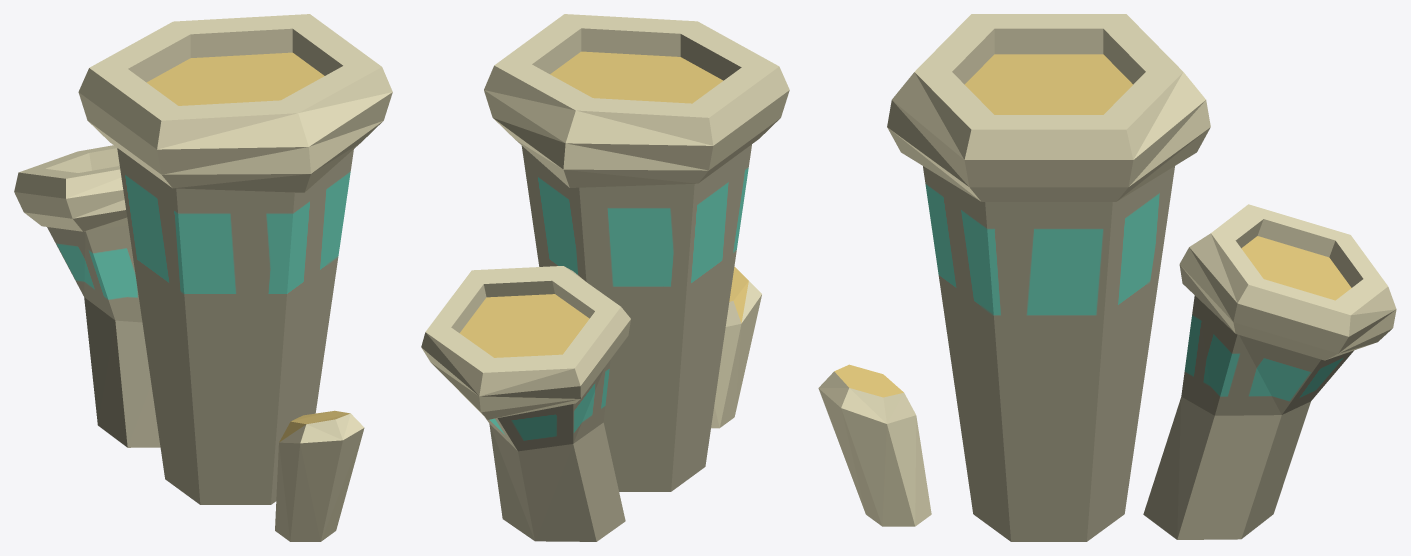
The model's file is White_mushroom.fbx.
The picture shows the model from 3 angles, left to right: view 1: azimuth 30°, elevation 25°; view 2: azimuth 150°, elevation 25°; view 3: azimuth 270°, elevation 25°; orthographic projection. The views are drawn at different scales.
Parts seen in each view (by area): view 1: White_mushroom; view 2: White_mushroom; view 3: White_mushroom.
Part boxes in pixels (x1,y1,x2,y2): White_mushroom: (14,14,392,541); White_mushroom: (421,14,789,541); White_mushroom: (818,14,1396,541).
Size of the model in its own units: 123 by 206 by 244.
